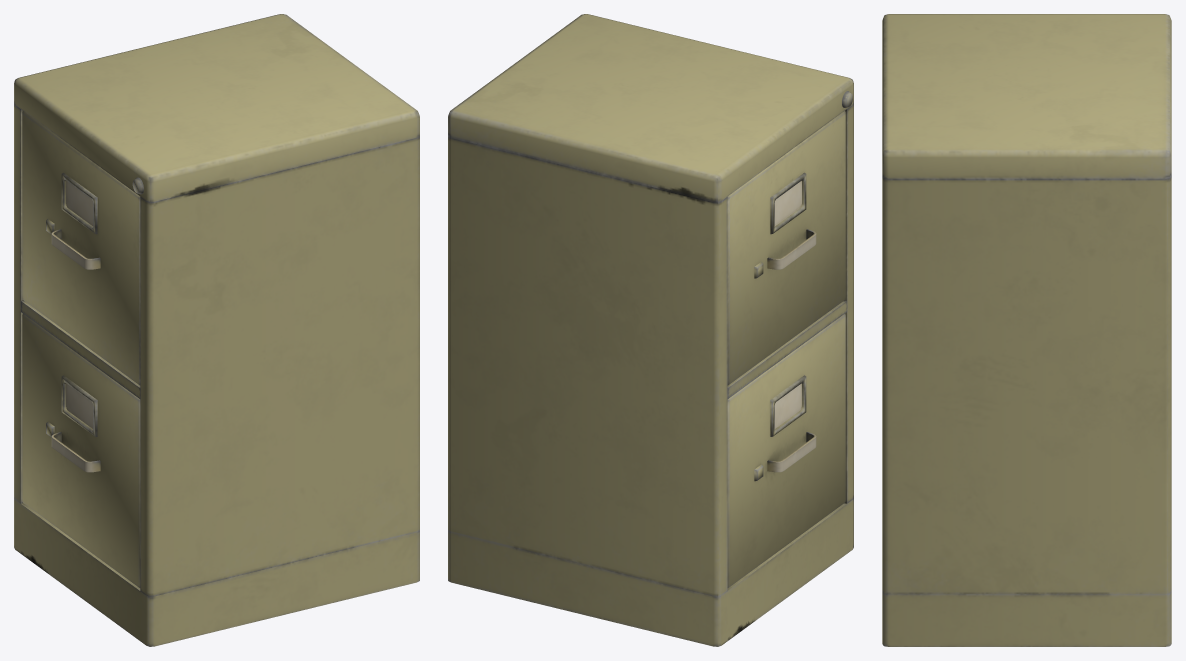
The model's file is SM_Filing_Cabinet_01a.fbx.
3 renders of one model, left to right at view 1: azimuth 30°, elevation 25°; view 2: azimuth 150°, elevation 25°; view 3: azimuth 270°, elevation 25°, orthographic. The views are drawn at different scales.
Parts seen in each view (by area): view 1: SM_Filing_Cabinet_01a_LOD0; view 2: SM_Filing_Cabinet_01a_LOD0; view 3: SM_Filing_Cabinet_01a_LOD0.
Boxes of the visible parts, <box> form: SM_Filing_Cabinet_01a_LOD0: <box>14,14,419,646</box>; SM_Filing_Cabinet_01a_LOD0: <box>448,14,853,646</box>; SM_Filing_Cabinet_01a_LOD0: <box>882,14,1171,646</box>.
Size of the model in its own units: 56.64 by 47.25 by 89.29.
